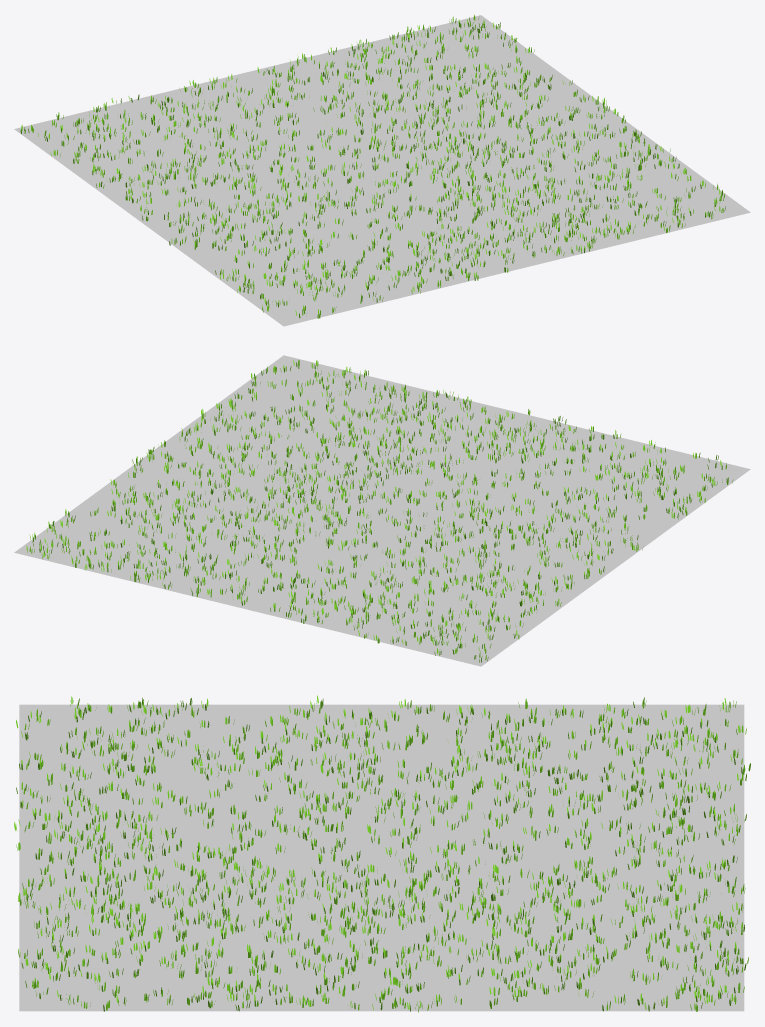
The model's file is grama2.fbx.
3 renders of one model, top to bottom at view 1: azimuth 30°, elevation 25°; view 2: azimuth 150°, elevation 25°; view 3: azimuth 270°, elevation 25°, orthographic. The views are drawn at different scales.
Parts seen in each view (by area): view 1: Plane; view 2: Plane; view 3: Plane.
Part boxes in pixels (box(x1,y1,x2,y2)): Plane: box(14, 15, 750, 326); Plane: box(14, 355, 750, 666); Plane: box(19, 704, 744, 1011).
Bounding box in the file's own units: 1381 × 15.18 × 1386.
